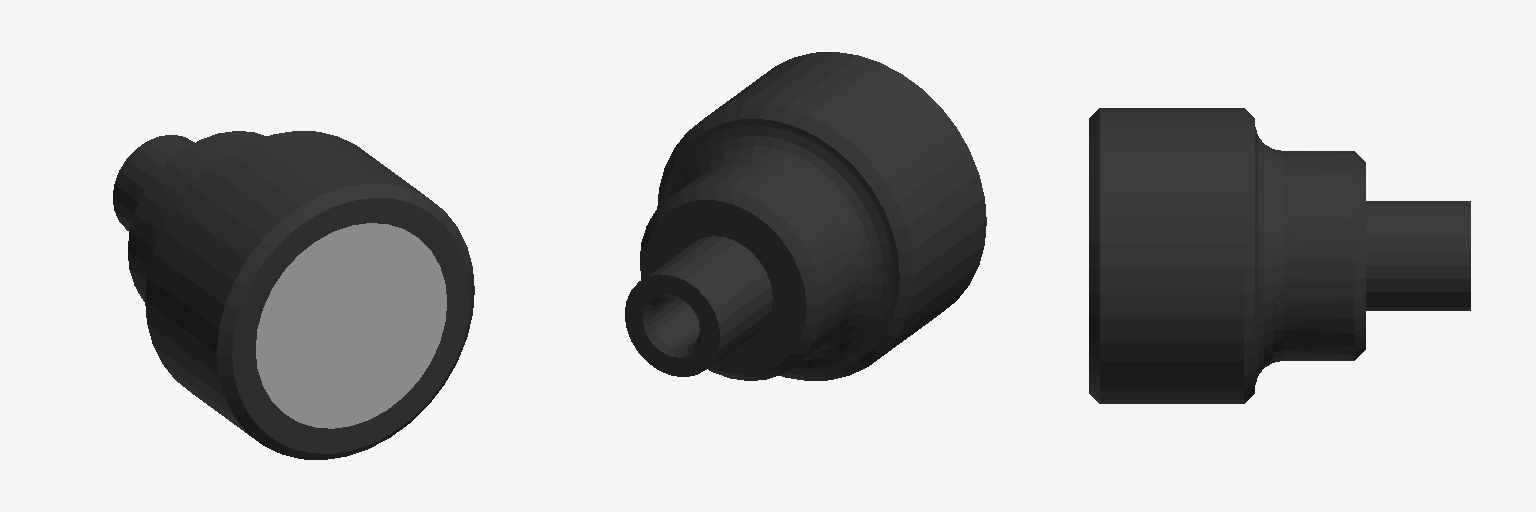
3 views of the same model, side by side, from view 1: azimuth 30°, elevation 25°; view 2: azimuth 150°, elevation 25°; view 3: azimuth 270°, elevation 25° (orthographic).
Parts seen in each view (by area): view 1: gn_3663-27-m6-0_7_1; view 2: gn_3663-27-m6-0_7_1; view 3: gn_3663-27-m6-0_7_1.
Part boxes in pixels (bbox=[...]): gn_3663-27-m6-0_7_1: bbox=[113, 131, 474, 459]; gn_3663-27-m6-0_7_1: bbox=[625, 52, 986, 380]; gn_3663-27-m6-0_7_1: bbox=[1089, 108, 1470, 403].
Size of the model in its own units: 26.9 by 26.9 by 34.5.